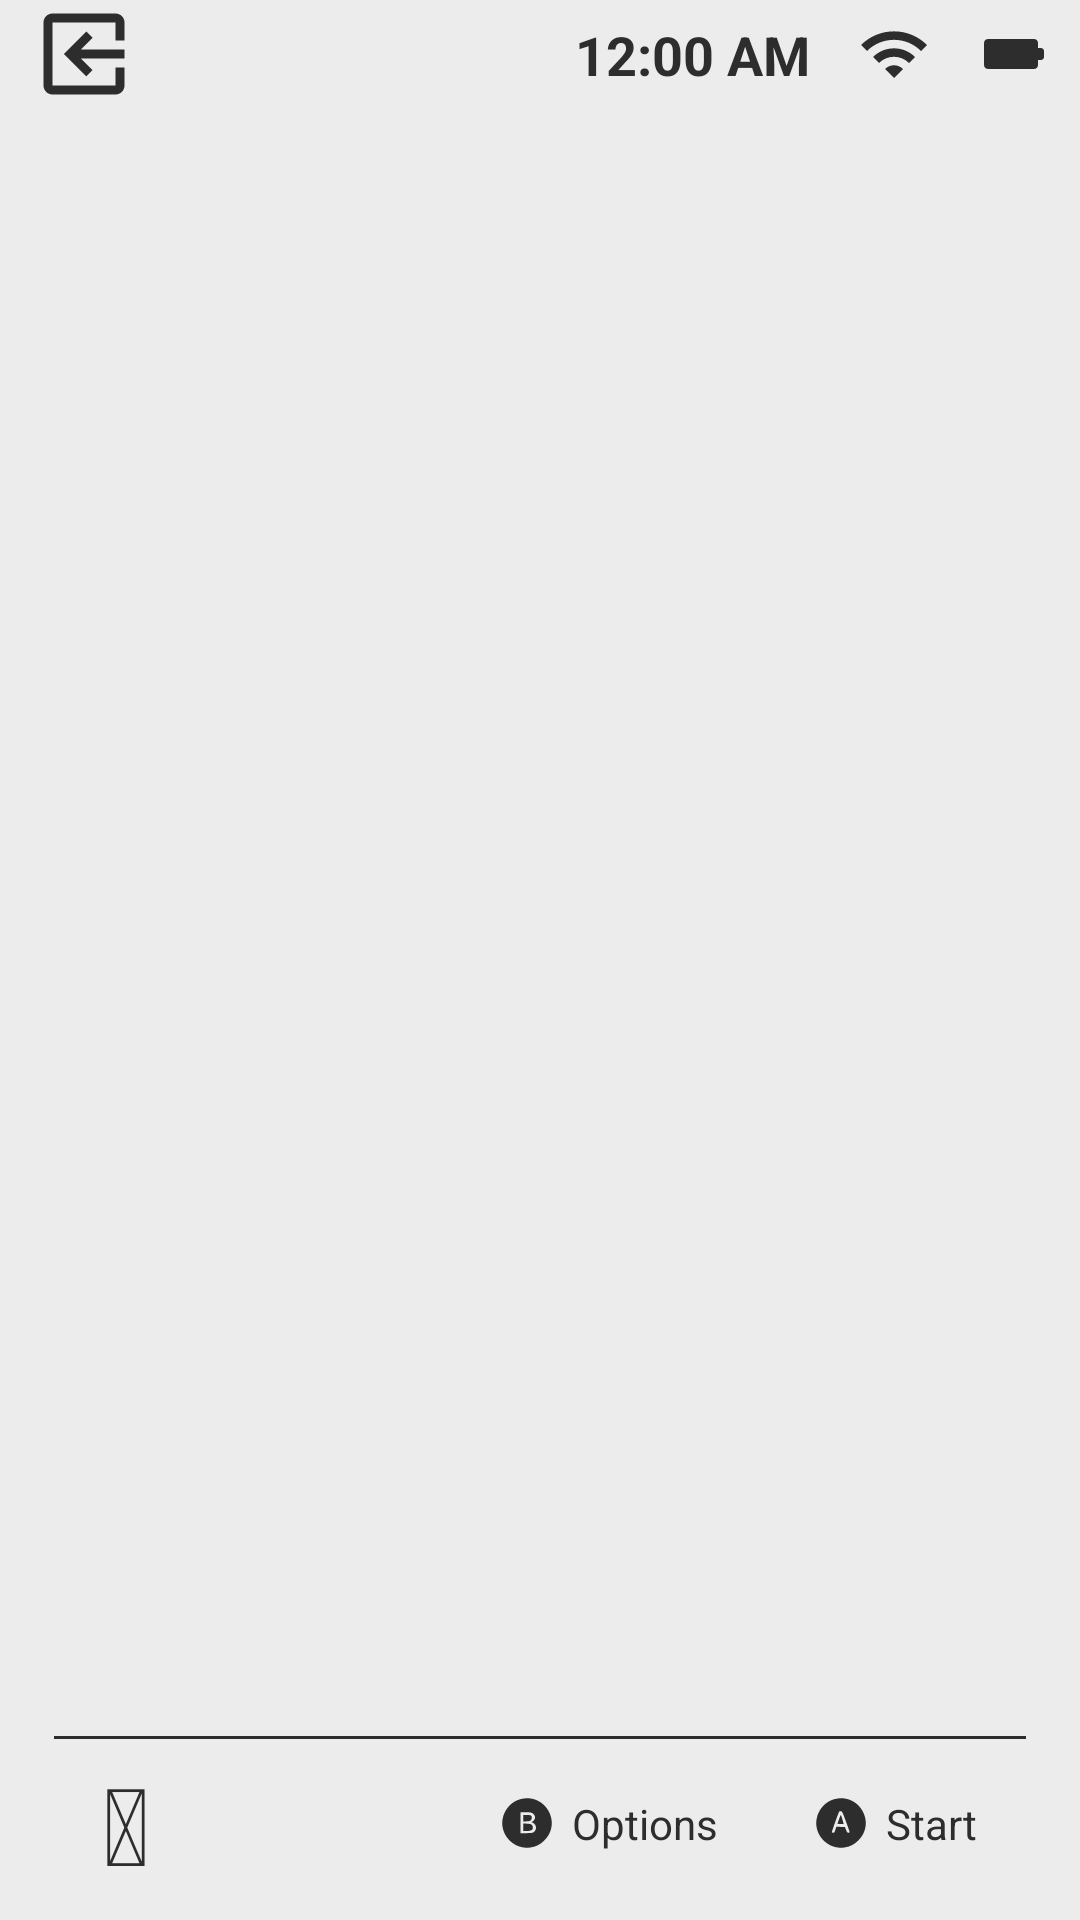

Locate icon controls on the screen. Image size 1080×1920, boxes as (x1, y1, x2, y2).
Battery level: (984, 39, 1044, 69)
Exit: (43, 13, 125, 95)
Wi-Fi signal: (861, 31, 927, 78)
